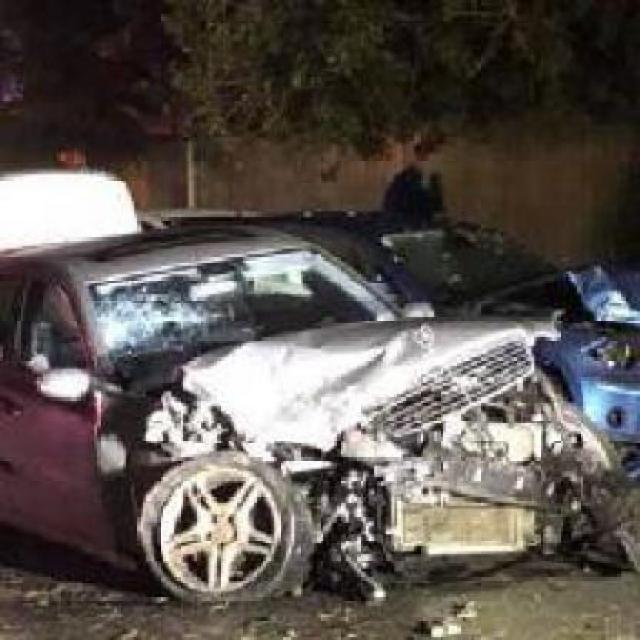damaged-hood: (153, 308, 578, 447)
